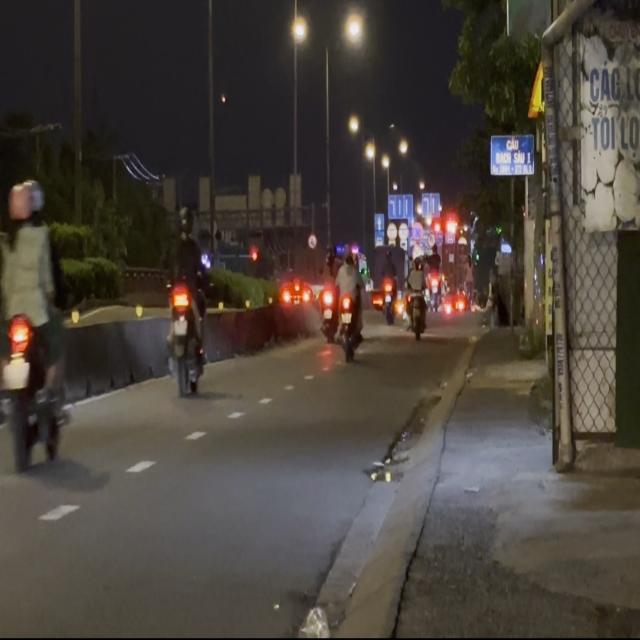helmet: (7, 182, 33, 229), (24, 176, 47, 225)
licenseplate: (0, 174, 75, 477)
